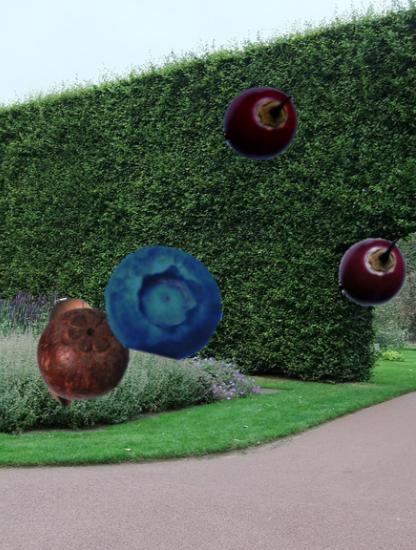Granadilla: (38, 297, 112, 371)
Huckleberry: (104, 242, 224, 362)
Mangostan: (32, 305, 132, 405)
Tamarillo: (223, 85, 301, 163), (338, 237, 410, 309)
